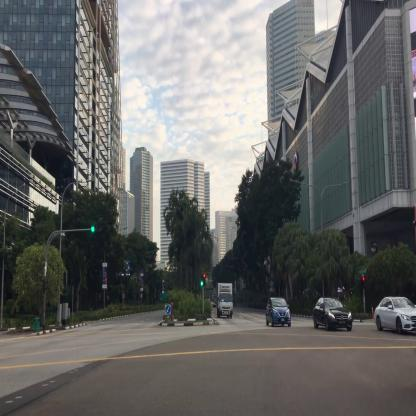green_traffic_light: (91, 227, 101, 231), (200, 274, 202, 286)
